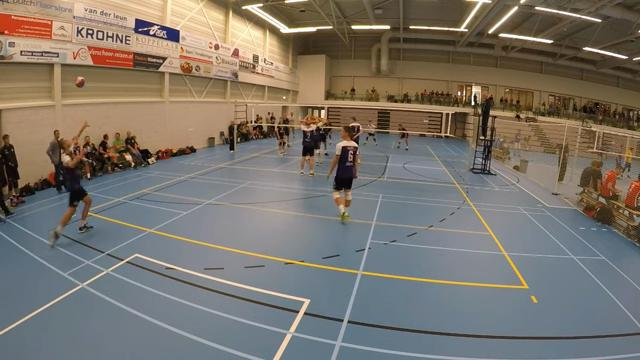Player: (327, 126, 358, 222), (300, 115, 316, 176), (314, 120, 323, 164), (321, 119, 331, 155), (349, 117, 361, 145), (363, 121, 377, 145), (349, 117, 361, 144), (275, 124, 285, 156), (397, 124, 408, 150), (324, 119, 332, 144)
Serve: (42, 118, 95, 248)
ball: (75, 75, 85, 88)
